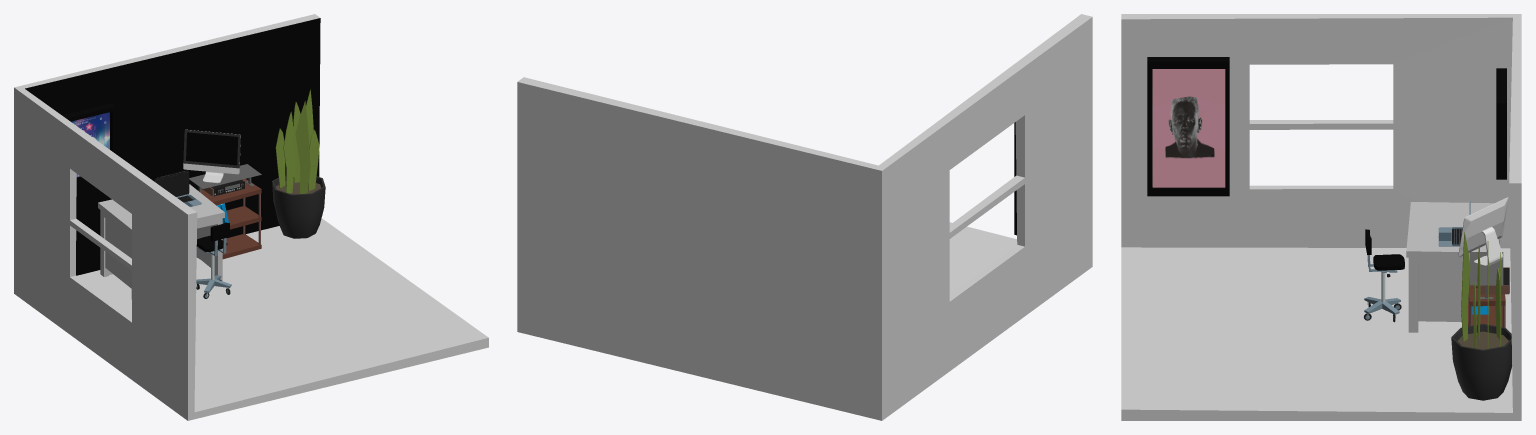
Rendered from chambre_baked_final.gltf.
The picture shows the model from 3 angles, left to right: view 1: azimuth 30°, elevation 25°; view 2: azimuth 150°, elevation 25°; view 3: azimuth 270°, elevation 25°; orthographic projection. The views are drawn at different scales.
Visible parts, largest first — view 1: Walls, Houseplant_4, drawer, iMac, table, Chair, mac, celeste, cadreCeleste, StandingDesk1; view 2: Walls; view 3: Walls, cadreTyler, drawer, Houseplant_4, iMac, Chair, cadreCeleste, table, StandingDesk1, mac.
Boxes of the visible parts, x1=… form: Walls: x1=14, y1=14, x2=488, y2=420; Houseplant_4: x1=272, y1=89, x2=325, y2=238; drawer: x1=98, y1=184, x2=224, y2=299; iMac: x1=183, y1=129, x2=240, y2=183; table: x1=197, y1=178, x2=261, y2=259; Chair: x1=196, y1=222, x2=231, y2=298; mac: x1=155, y1=170, x2=201, y2=206; celeste: x1=71, y1=112, x2=109, y2=177; cadreCeleste: x1=62, y1=103, x2=115, y2=182; StandingDesk1: x1=189, y1=164, x2=261, y2=193; Walls: x1=517, y1=14, x2=1092, y2=420; Walls: x1=1121, y1=14, x2=1521, y2=420; cadreTyler: x1=1147, y1=57, x2=1229, y2=196; drawer: x1=1406, y1=202, x2=1499, y2=332; Houseplant_4: x1=1451, y1=232, x2=1511, y2=400; iMac: x1=1458, y1=197, x2=1508, y2=266; Chair: x1=1364, y1=229, x2=1404, y2=322; cadreCeleste: x1=1496, y1=68, x2=1506, y2=179; table: x1=1467, y1=278, x2=1505, y2=327; StandingDesk1: x1=1470, y1=252, x2=1503, y2=299; mac: x1=1438, y1=201, x2=1470, y2=246.
Bounding box in the file's own units: 9.73 × 6.42 × 9.73.
Materials: 53 (3 with a texture image).
